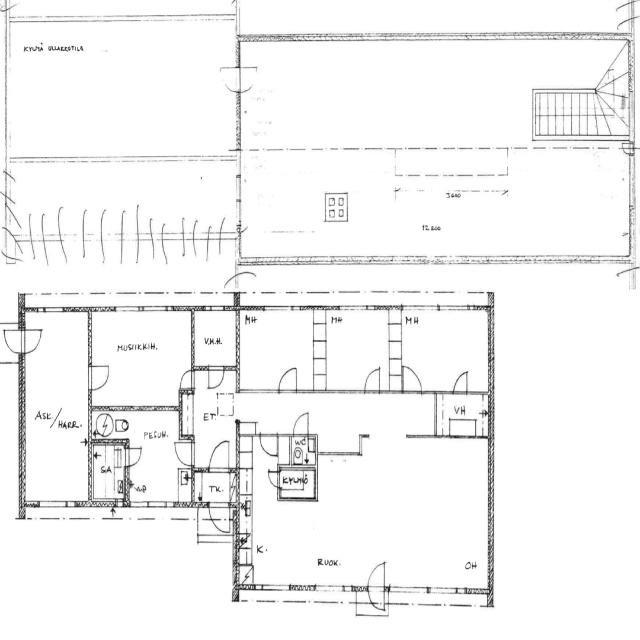door: (4, 19, 232, 159), (287, 434, 318, 468), (367, 559, 387, 611), (207, 437, 232, 473), (207, 500, 230, 534), (87, 361, 112, 391), (401, 362, 424, 394), (276, 364, 300, 394), (2, 325, 24, 355), (218, 64, 241, 92), (21, 326, 44, 354), (173, 438, 195, 467), (362, 364, 383, 393), (237, 64, 258, 92), (291, 410, 312, 437), (451, 368, 471, 395), (259, 431, 279, 457), (207, 364, 226, 389), (125, 444, 144, 468), (220, 272, 240, 294), (178, 367, 195, 389), (266, 468, 282, 488)
window: (36, 497, 74, 513), (233, 170, 244, 225), (367, 429, 409, 442), (256, 580, 289, 594), (263, 303, 301, 314), (402, 302, 439, 312), (144, 498, 173, 510), (339, 302, 370, 312), (317, 583, 344, 593), (114, 304, 141, 313), (43, 304, 65, 314), (209, 304, 225, 312)
zone: (21, 314, 90, 508), (90, 309, 193, 406), (398, 308, 492, 392), (314, 308, 392, 392), (238, 310, 316, 391), (125, 441, 192, 505), (192, 367, 237, 460), (191, 308, 239, 368), (434, 391, 491, 437), (91, 441, 127, 504), (193, 469, 237, 505), (279, 467, 317, 499), (286, 434, 317, 467)
